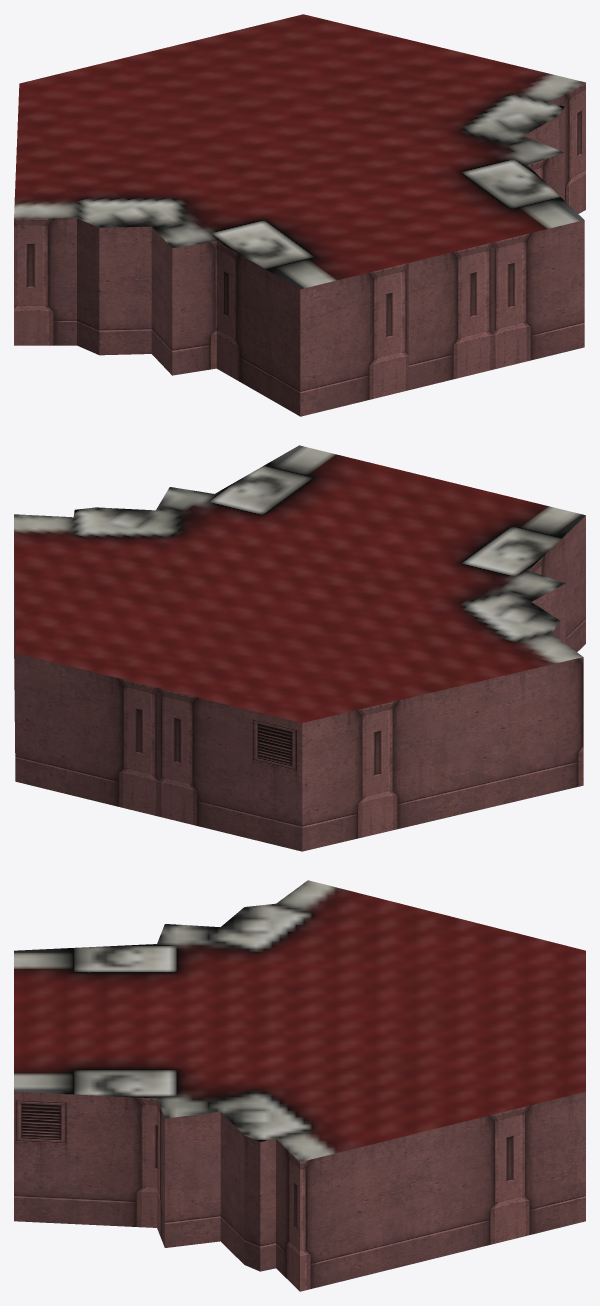
Rendered from hardened_roof43.glb.
The picture shows the model from 3 angles, top to bottom: view 1: azimuth 30°, elevation 25°; view 2: azimuth 150°, elevation 25°; view 3: azimuth 270°, elevation 25°; orthographic projection.
Visible parts, largest first — view 1: buildings/saxarba/hard/hardened_roof43; view 2: buildings/saxarba/hard/hardened_roof43; view 3: buildings/saxarba/hard/hardened_roof43.
Boxes of the visible parts, bbox=[...] form: buildings/saxarba/hard/hardened_roof43: bbox=[14, 14, 585, 416]; buildings/saxarba/hard/hardened_roof43: bbox=[14, 445, 585, 851]; buildings/saxarba/hard/hardened_roof43: bbox=[14, 880, 585, 1291].
Size of the model in its own units: 84 by 18 by 72.
